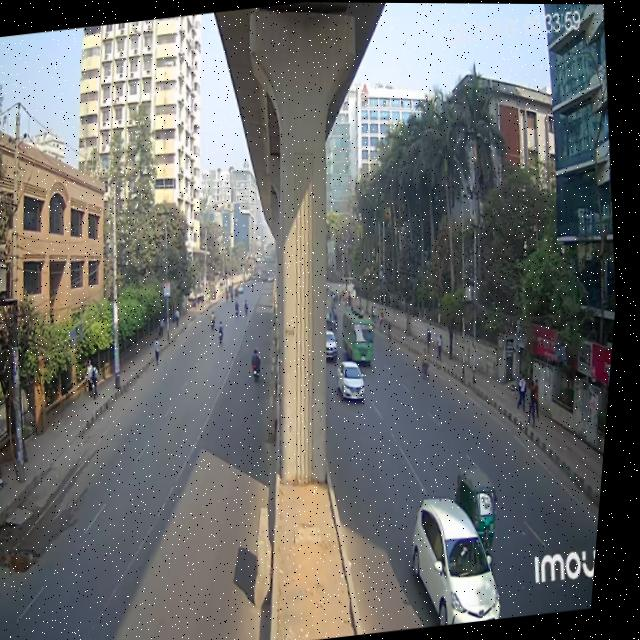cng: (453, 446, 517, 559)
